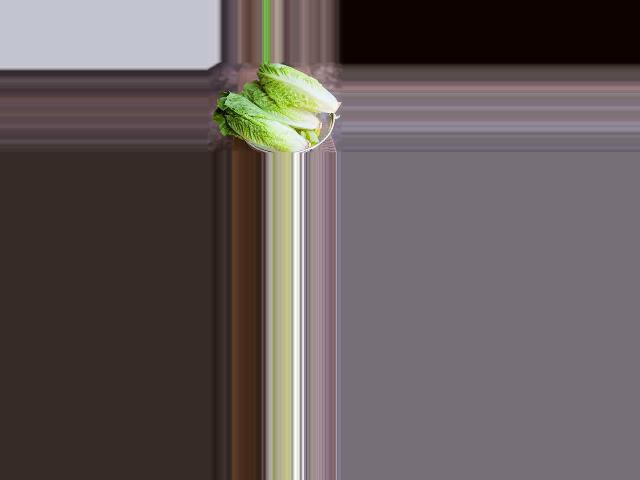lettuce: (216, 90, 317, 153)
